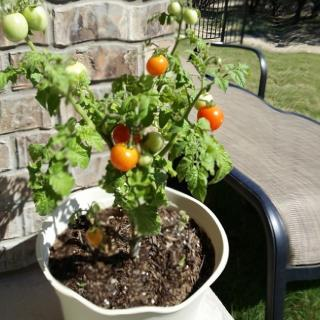tomato: (110, 134, 143, 170), (195, 103, 225, 132), (2, 13, 31, 42), (22, 4, 50, 30), (113, 125, 141, 146), (143, 129, 165, 153), (146, 54, 170, 76), (67, 61, 87, 84), (191, 89, 213, 109), (183, 7, 199, 24), (139, 150, 154, 168), (167, 1, 183, 17), (86, 230, 99, 248)
